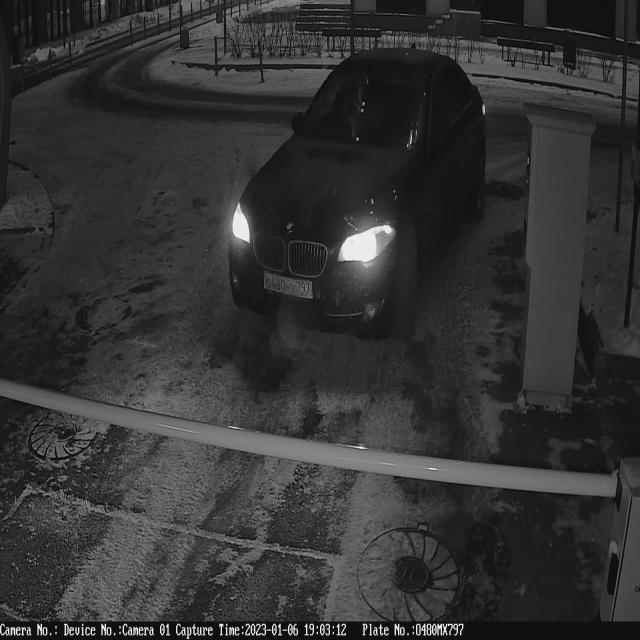car-plate-numbers: (261, 265, 317, 308)
